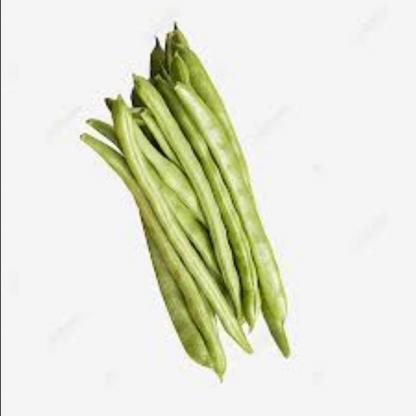beans: (71, 18, 303, 383)
